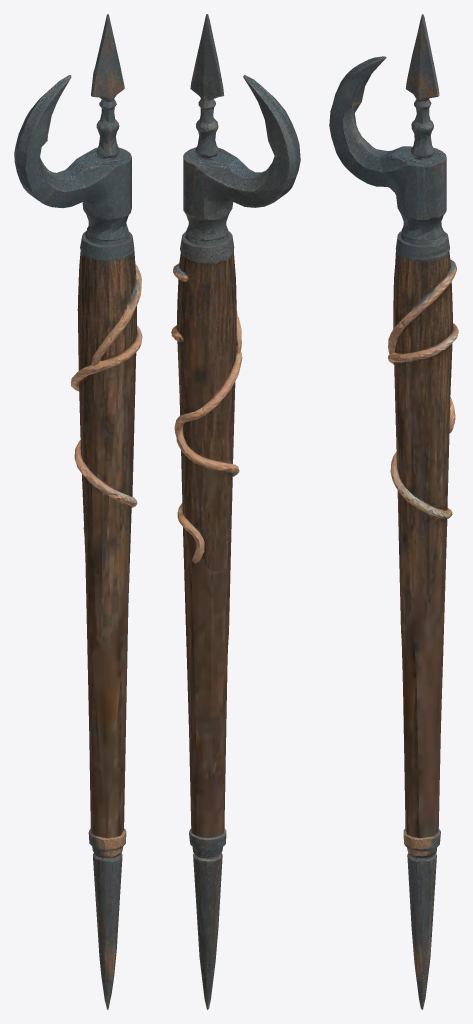
The model's file is mezzomarinaio.glb.
The picture shows the model from 3 angles, left to right: view 1: azimuth 30°, elevation 25°; view 2: azimuth 150°, elevation 25°; view 3: azimuth 330°, elevation 25°; orthographic projection.
Bounding box in the file's own units: 0.2429 × 1.9 × 0.1359.
Materials: 1 (1 with a texture image).
